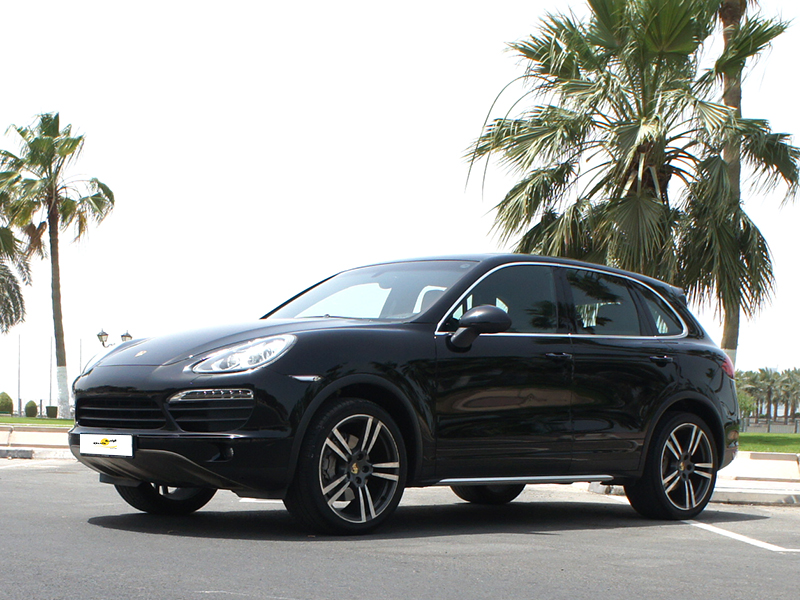other: (62, 250, 743, 529)
